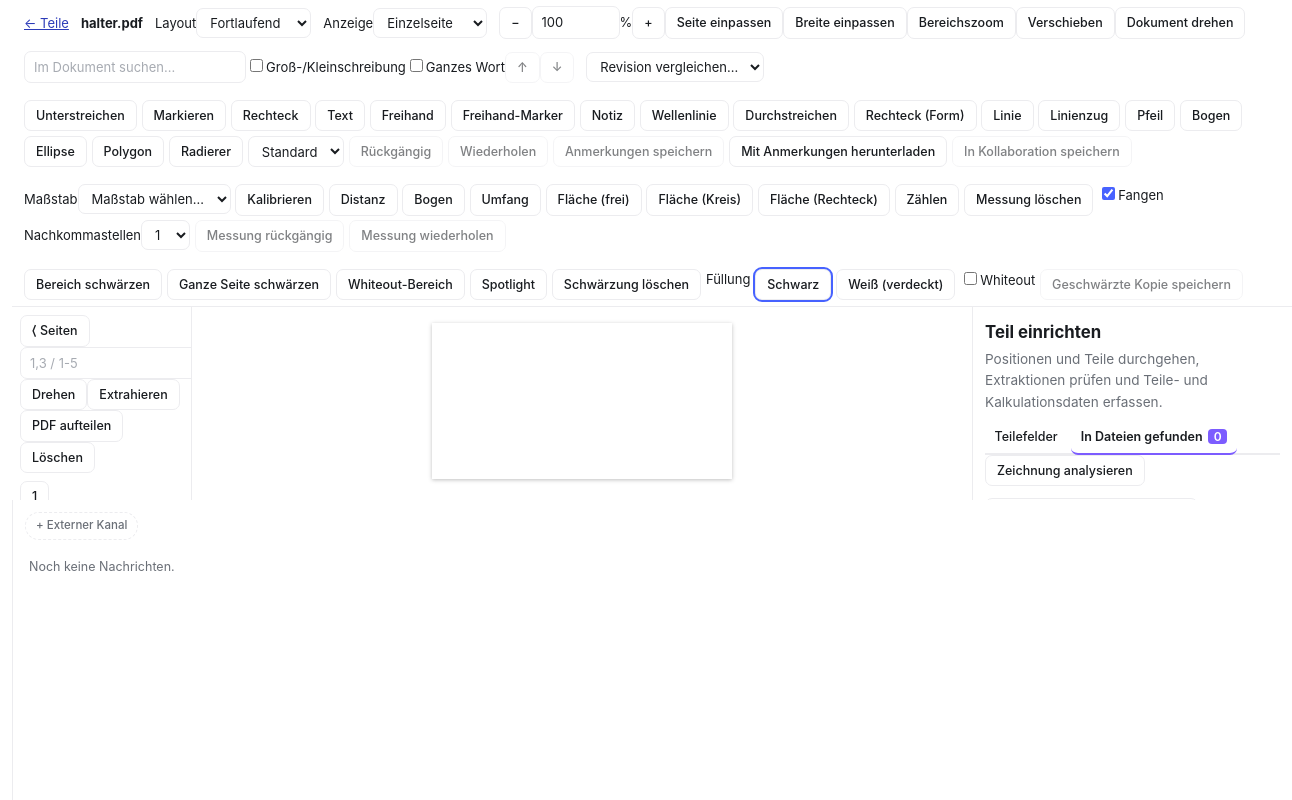
Test case: PdfViewerPage redact flow › blocks saving while a view rotation is applied (coords are unrotated)
The image size is (1292, 800).
Click the button "Bereich schwärzen" at (93, 284), box [24,269,162,300]
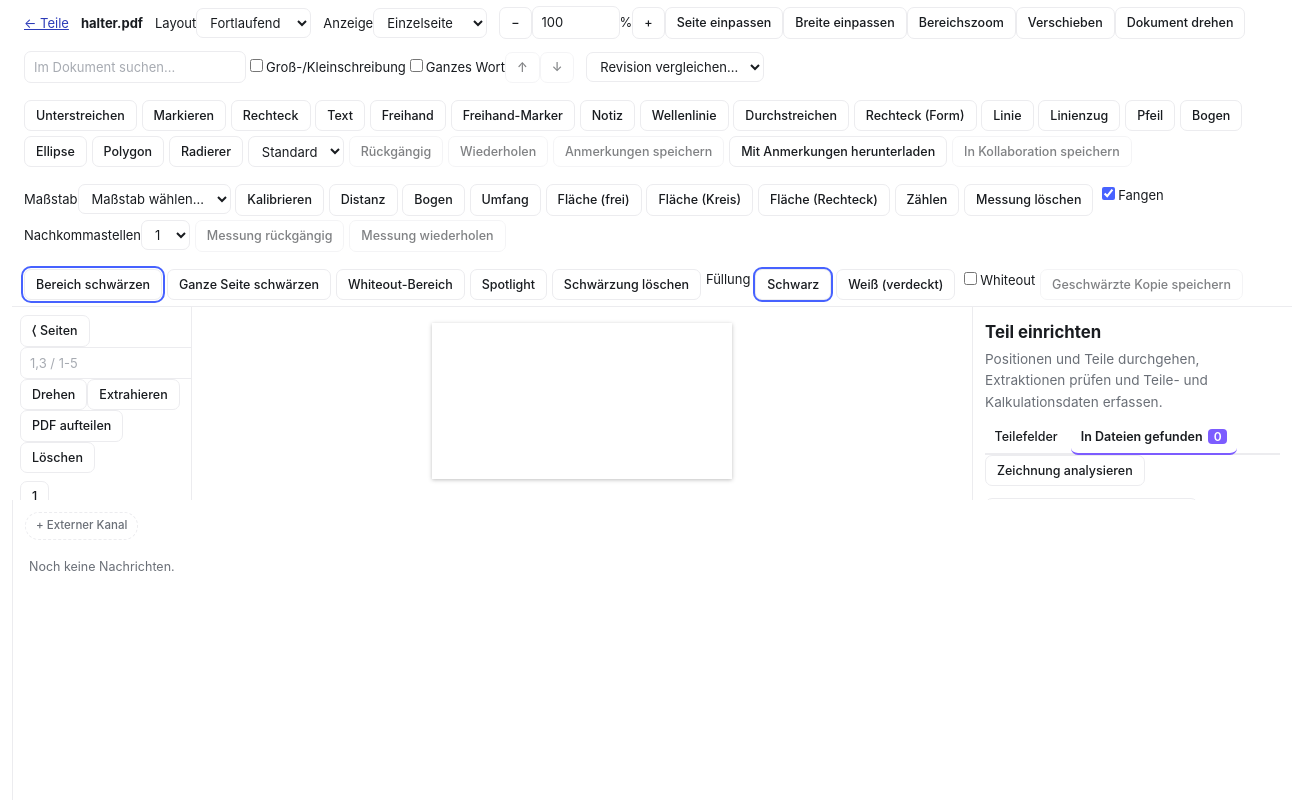
Press the mouse on the icon named "Schwärzungen Seite 1" at (582, 401), box [432,323,732,478]
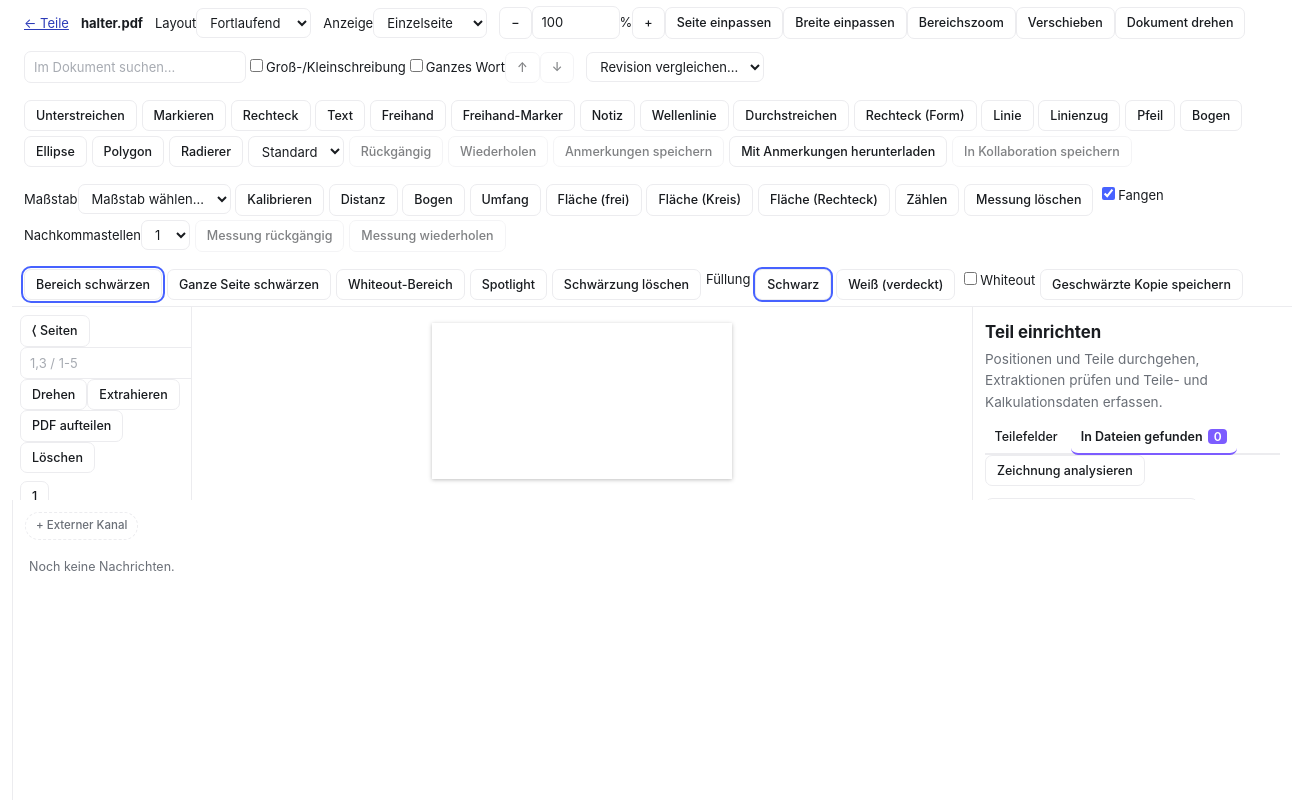
Check: the button "Geschwärzte Kopie speichern" is enabled, box [1040,269,1243,300]
Type "1" into the field named "Seitenauswahl" at (131, 363), box [20,347,242,379]
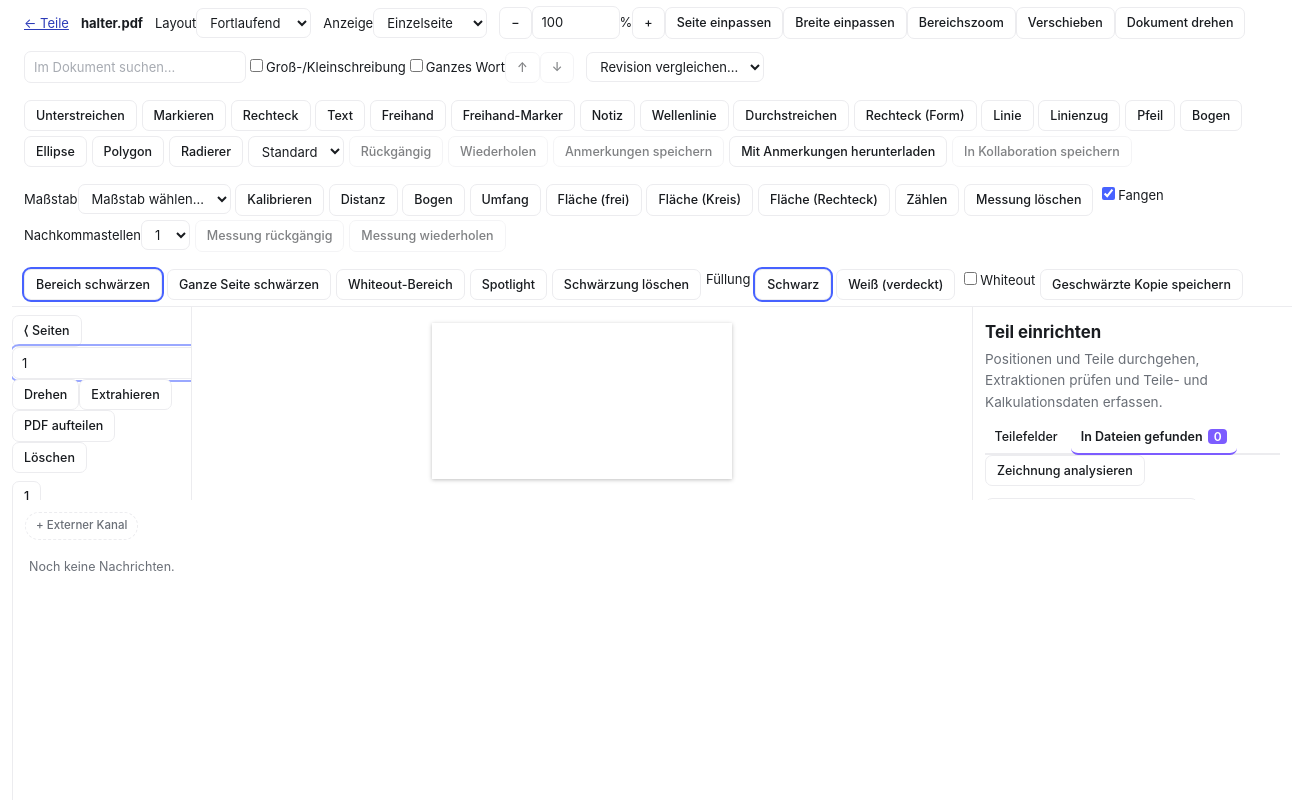
Click the button "Drehen" at (46, 395), box [12,379,79,410]
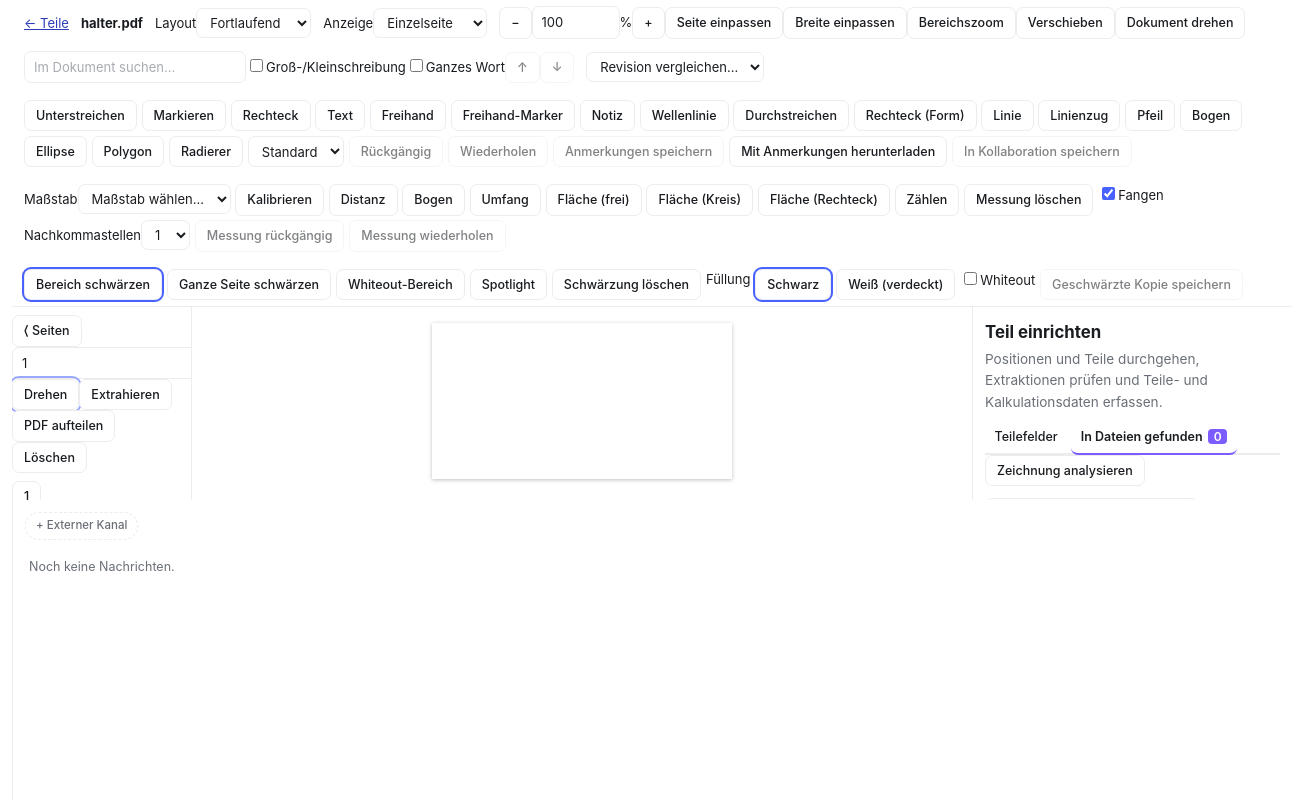
Check: the button "Geschwärzte Kopie speichern" is disabled, box [1040,269,1243,300]
